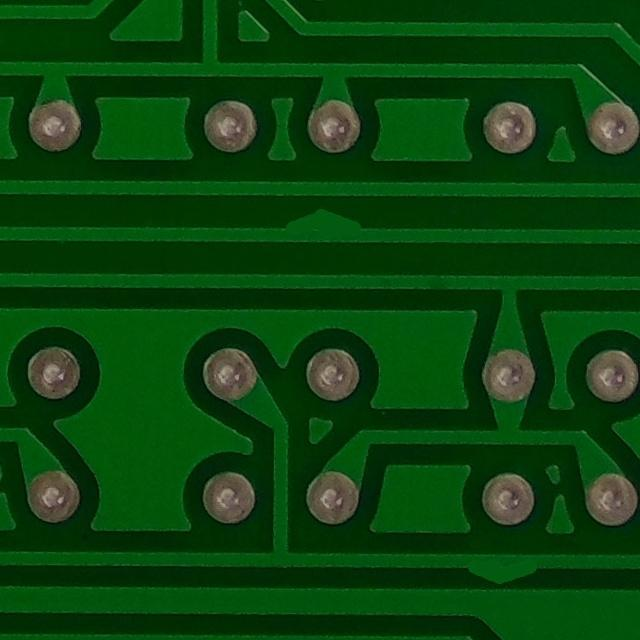spur: (271, 197, 367, 257), (460, 541, 542, 592)
